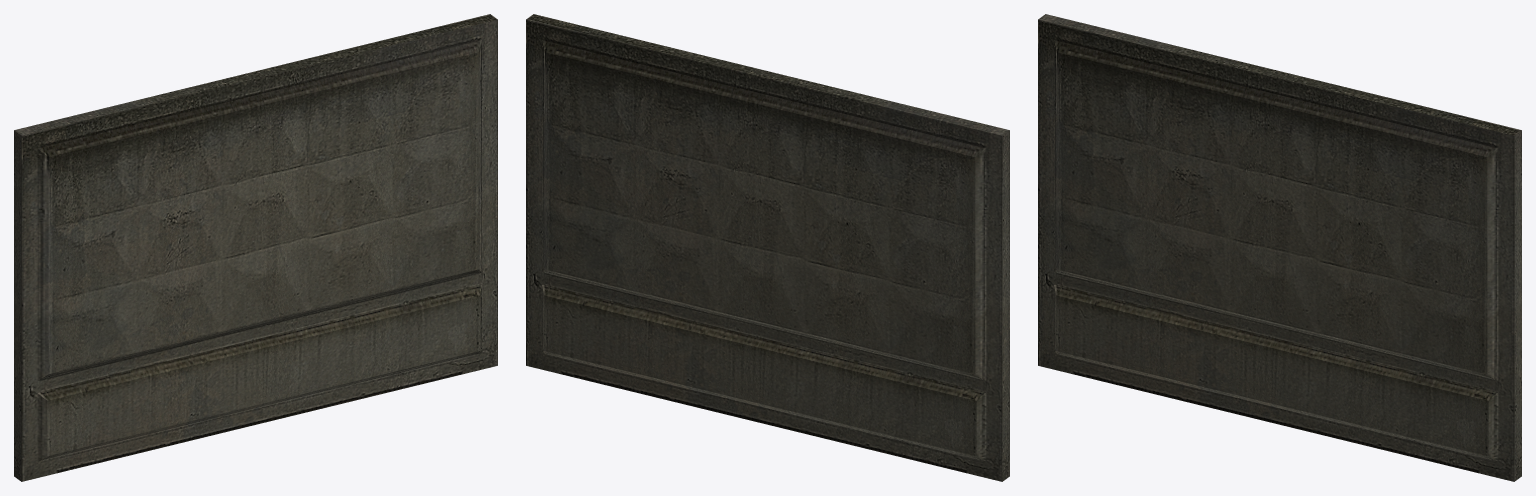
File: concrete_fence_hr_1.obj
3 views of the same model, side by side, from view 1: azimuth 30°, elevation 25°; view 2: azimuth 150°, elevation 25°; view 3: azimuth 330°, elevation 25° (orthographic).
Visible parts, largest first — view 1: concrete_fence_hr_1; view 2: concrete_fence_hr_1; view 3: concrete_fence_hr_1.
Boxes of the visible parts, box(x1,y1,x2,y2) form: concrete_fence_hr_1: box(14, 14, 497, 481); concrete_fence_hr_1: box(526, 14, 1009, 481); concrete_fence_hr_1: box(1038, 14, 1521, 481).
Bounding box in the file's own units: 3.6 × 2.5 × 0.2.
